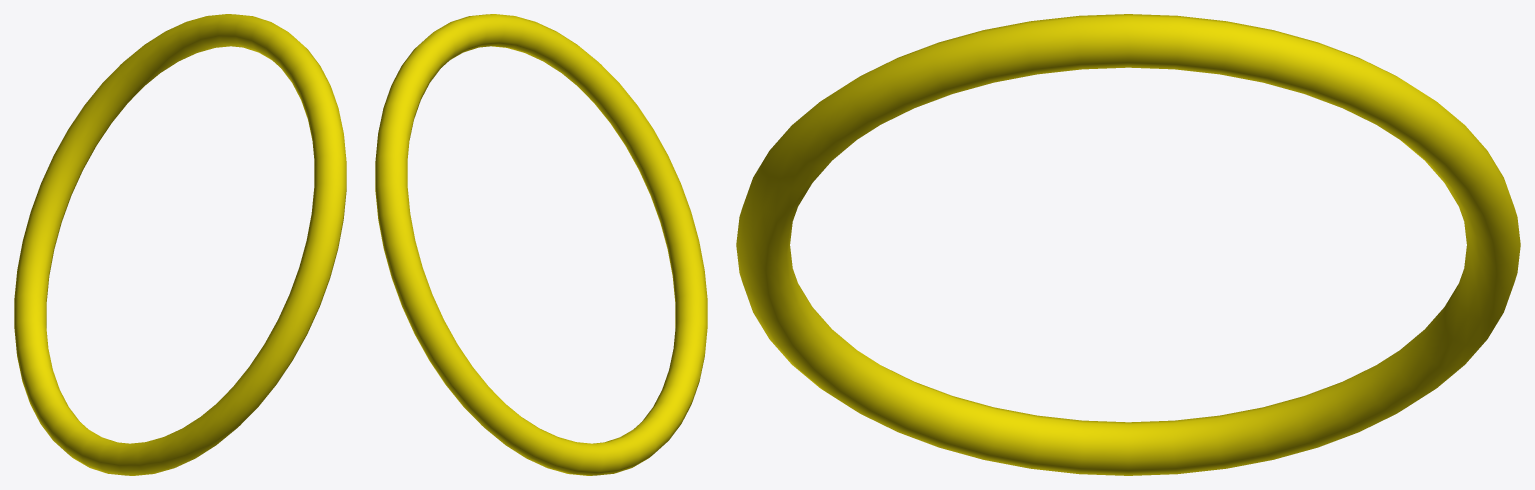
Rendered from oxygen_ring_2.gltf.
3 views of the same model, side by side, from view 1: azimuth 30°, elevation 25°; view 2: azimuth 150°, elevation 25°; view 3: azimuth 270°, elevation 25° (orthographic). The views are drawn at different scales.
Visible parts, largest first — view 1: Torus; view 2: Torus; view 3: Torus.
Part boxes in pixels (bbox=[...]): Torus: bbox=[14, 14, 346, 475]; Torus: bbox=[375, 14, 707, 475]; Torus: bbox=[736, 14, 1520, 475].
Bounding box in the file's own units: 2.24 × 3.54 × 4.08.
